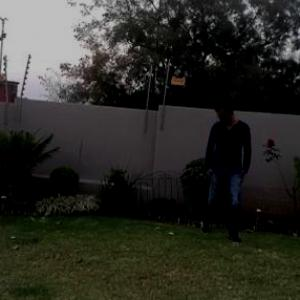follow: (206, 96, 254, 244)
